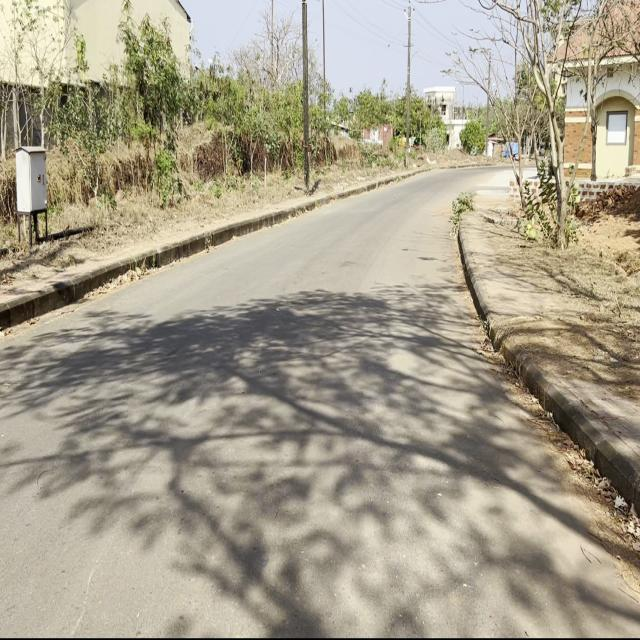Road: (0, 164, 640, 640)
